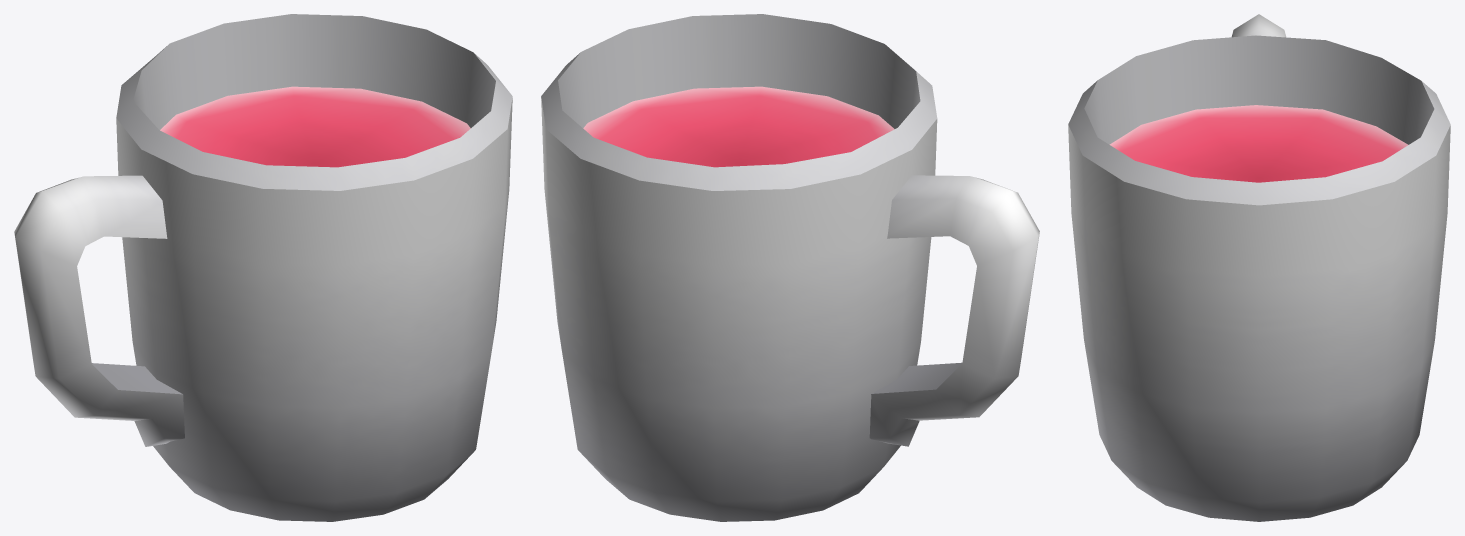
File: m_Mug01_Tea07.fbx
3 renders of one model, left to right at view 1: azimuth 30°, elevation 25°; view 2: azimuth 150°, elevation 25°; view 3: azimuth 270°, elevation 25°, orthographic. The views are drawn at different scales.
Parts seen in each view (by area): view 1: m_Mug01_Tea07; view 2: m_Mug01_Tea07; view 3: m_Mug01_Tea07.
Boxes of the visible parts, x1,y1,x2,y2 form: m_Mug01_Tea07: (14,14,512,521); m_Mug01_Tea07: (541,14,1039,521); m_Mug01_Tea07: (1068,14,1450,521).
Bounding box in the file's own units: 15.22 × 11.5 × 11.16.
